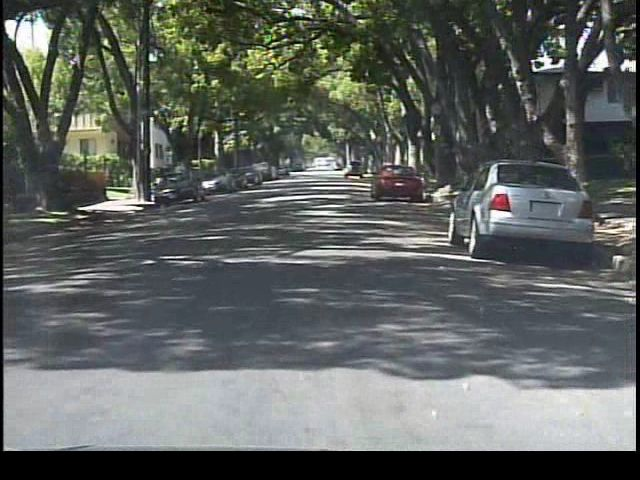person: (171, 161, 190, 195)
